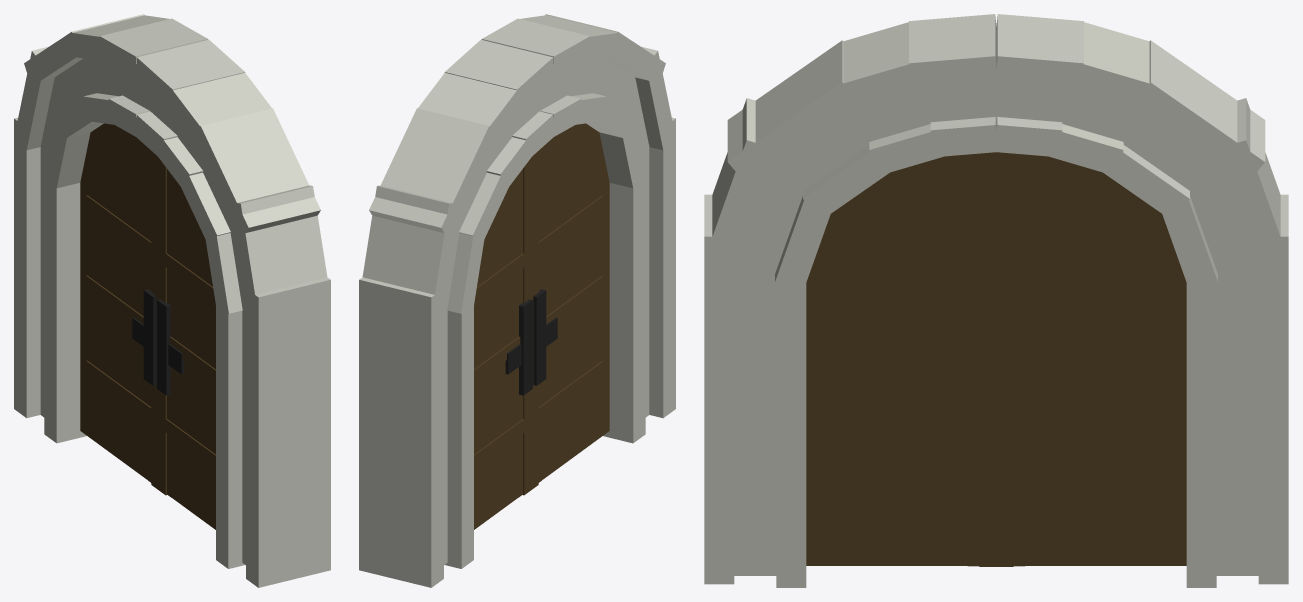
The model's file is Cathedral Door.fbx.
3 views of the same model, side by side, from view 1: azimuth 30°, elevation 25°; view 2: azimuth 150°, elevation 25°; view 3: azimuth 270°, elevation 25° (orthographic). The views are drawn at different scales.
Visible parts, largest first — view 1: Cube__3__1, Door_Left_1, Cube__4_, Cube__11__1, Door_Left_2, Cube__3_, Cube__4__1, Cube__12__1, Cube__6__1, Cube__10__1, Cube__6_, Door_Left__6_ (+38 smaller); view 2: Cube__3_, Door_Left_2, Cube__4__1, Cube__11_, Cube__3__1, Door_Left_1, Cube__12_, Cube__4_, Cube__6_, Cube__10_, Cube__6__1, Door_Left__1__1 (+37 smaller); view 3: Door_Left_2, Door_Left_1, Cube__2__1, Cube__2_, Cube__3_, Cube__3__1, Cube__4__1, Cube__4_, Cube__11_, Cube__11__1, Door_Left__1_, Door_Left__1__1 (+32 smaller).
Boxes of the visible parts, x1,y1,x2,y2 form: Cube__3__1: [246, 277, 330, 587]; Door_Left_1: [80, 182, 151, 482]; Cube__4_: [44, 178, 86, 443]; Cube__11__1: [193, 108, 320, 239]; Door_Left_2: [167, 250, 215, 529]; Cube__3_: [14, 117, 40, 418]; Cube__4__1: [216, 303, 244, 568]; Cube__12__1: [229, 185, 327, 312]; Cube__6__1: [136, 40, 245, 110]; Cube__10__1: [168, 73, 271, 146]; Cube__6_: [99, 18, 208, 79]; Door_Left__6_: [139, 140, 150, 448]; Cube__3_: [359, 277, 443, 587]; Door_Left_2: [538, 182, 609, 482]; Cube__4__1: [603, 179, 645, 443]; Cube__11_: [369, 108, 496, 239]; Cube__3__1: [649, 117, 675, 418]; Door_Left_1: [474, 250, 522, 529]; Cube__12_: [362, 185, 460, 313]; Cube__4_: [445, 303, 473, 568]; Cube__6_: [444, 40, 553, 110]; Cube__10_: [418, 73, 521, 146]; Cube__6__1: [481, 18, 590, 79]; Door_Left__1__1: [538, 133, 609, 265]; Door_Left_2: [806, 269, 981, 565]; Door_Left_1: [1011, 269, 1186, 565]; Cube__2__1: [734, 228, 790, 575]; Cube__2_: [1202, 228, 1258, 575]; Cube__3_: [1258, 194, 1288, 584]; Cube__3__1: [704, 194, 734, 584]; Cube__4__1: [776, 281, 806, 587]; Cube__4_: [1186, 281, 1216, 587]; Cube__11_: [1133, 40, 1265, 183]; Cube__11__1: [727, 40, 860, 183]; Door_Left__1_: [1009, 205, 1181, 282]; Door_Left__1__1: [811, 205, 983, 280].
Bounding box in the file's own units: 200 × 1175 × 1170.
